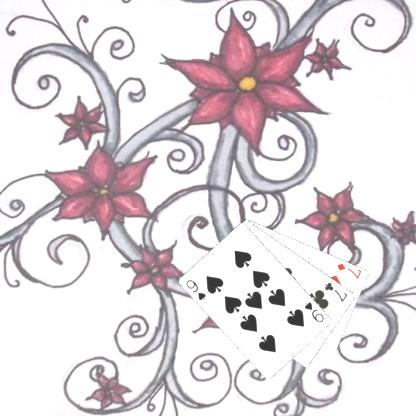7C: (322, 280, 349, 304)
7D: (334, 261, 362, 280)
9S: (302, 299, 326, 324), (184, 277, 208, 302)
